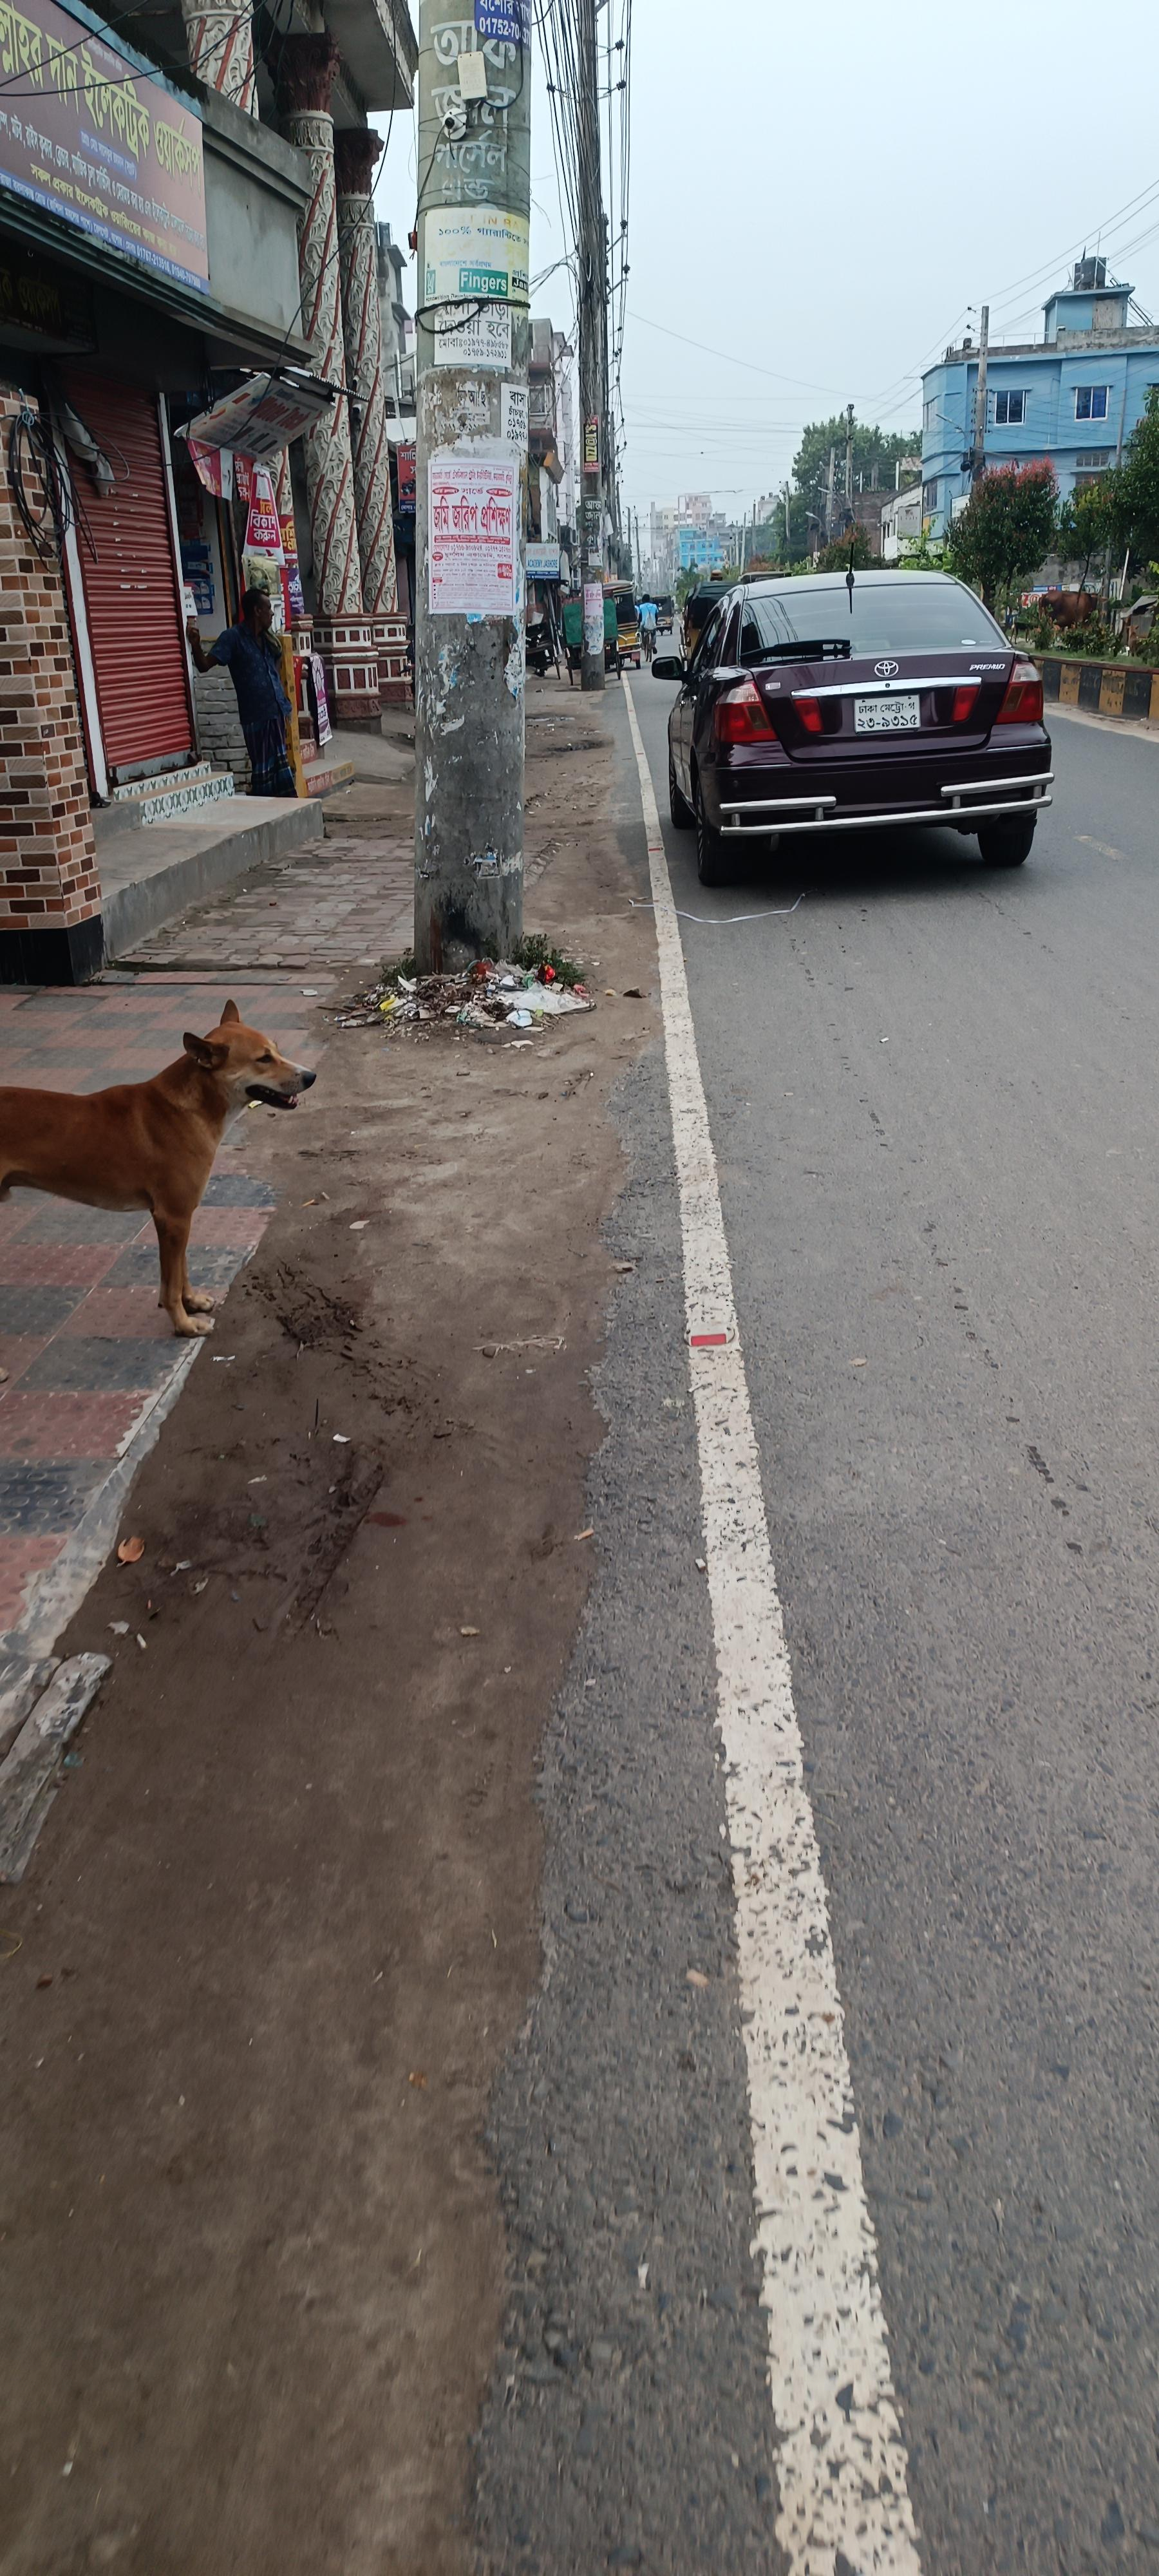Broken-road: (639, 521, 1102, 966)
Crosswalk: (0, 966, 399, 1378)
Dog: (317, 933, 594, 1033)
Garbage-bin: (187, 588, 295, 797), (635, 595, 658, 660)
Light-pole: (409, 3, 535, 976)
Pothole: (2, 657, 660, 2571)
